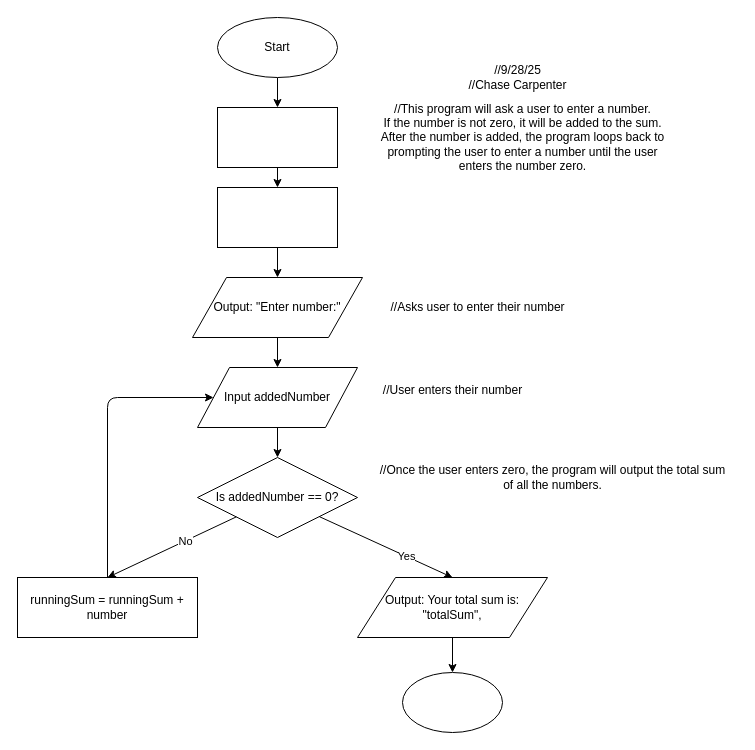
This 755x750 diagram has some shape labels left out. The shapes that lost their labels are listed below. From the top down, each one's box as (x1, y1, x2, y2) in pixels, then its label:
(216, 106, 338, 168): Declare variables: runningSum totalSum addedNumber
(216, 186, 338, 248): runningSum = 0
(402, 672, 502, 732): End
